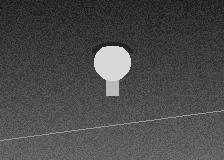no_helmet: (94, 42, 130, 85)
